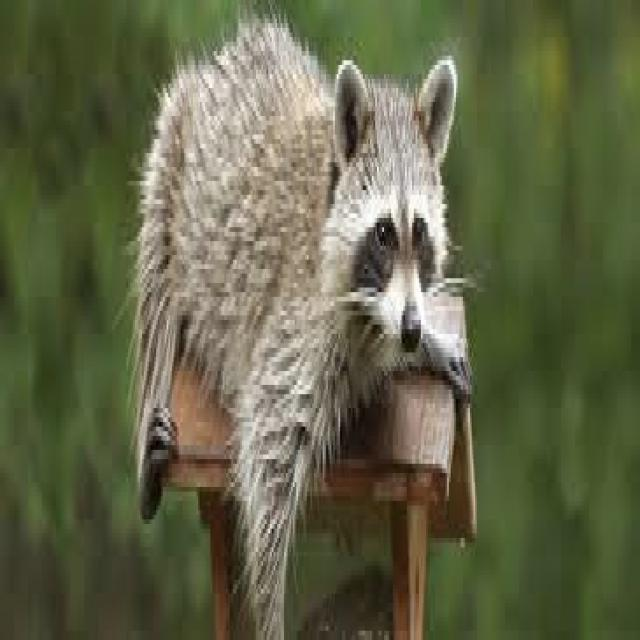raccoon: (133, 19, 465, 635)
